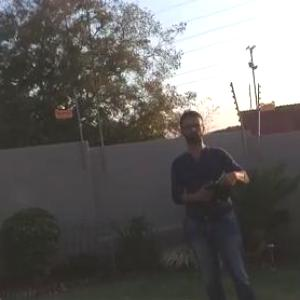follow: (165, 97, 262, 299)
